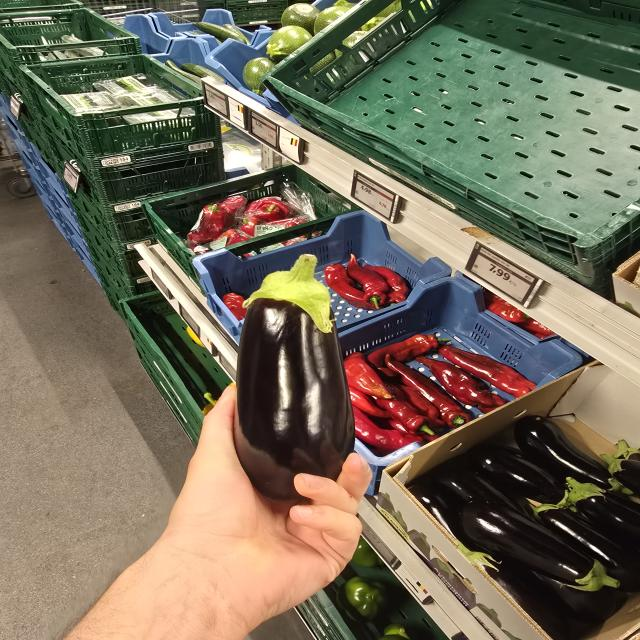Eggplant: (235, 255, 355, 500), (460, 501, 620, 591), (514, 416, 623, 491), (467, 444, 568, 504), (566, 478, 640, 555)
